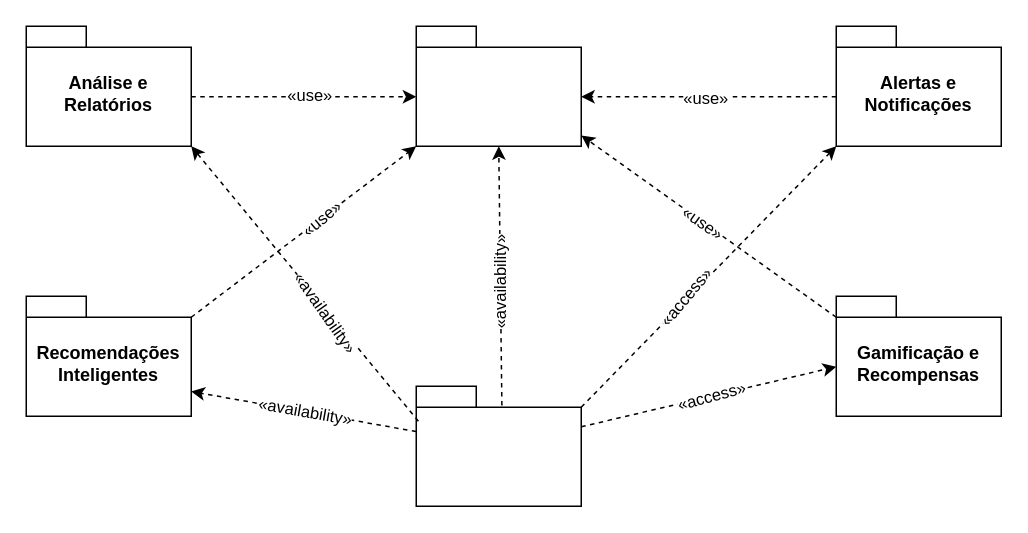
The diagram is 1028 pixels wide and 533 high, and some of its shapes have lost their labels. The centre of each missing label's shape, as x and y in pixels:
Gestão de Utilizadores: (x=498, y=445)
Monitorização e Sensores IoT: (x=498, y=85)
